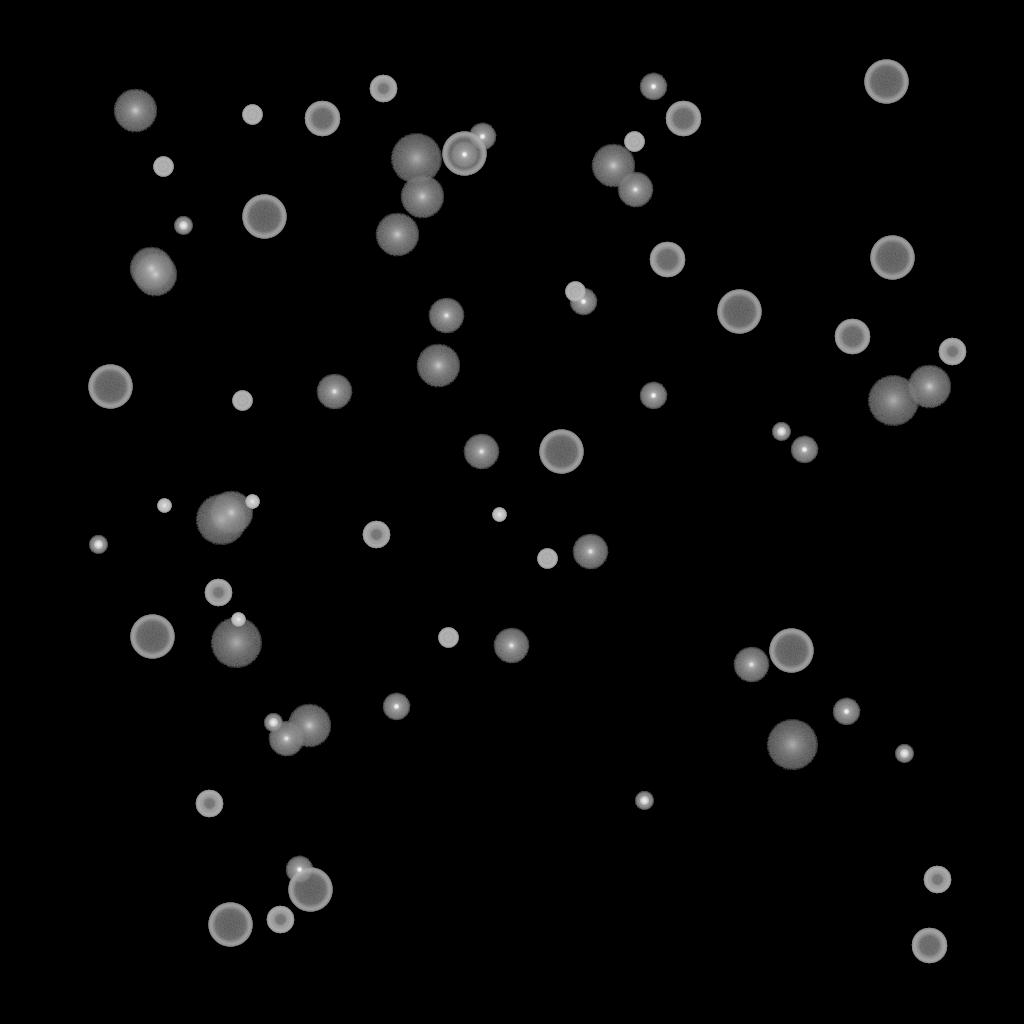depth:-10: (569, 288, 597, 316), (790, 436, 818, 464), (639, 73, 667, 101), (468, 123, 496, 151), (382, 693, 410, 721), (285, 856, 313, 884), (639, 382, 667, 410), (832, 698, 860, 726), (450, 141, 478, 169)
depth:-20: (264, 714, 282, 732), (895, 745, 913, 763), (635, 792, 653, 810), (772, 423, 790, 441), (89, 536, 107, 554), (174, 217, 192, 235)
depth:-30: (231, 613, 245, 627), (157, 499, 171, 513), (492, 508, 506, 522), (245, 495, 259, 509)
depth:-40: (624, 132, 644, 152), (242, 105, 262, 125), (232, 391, 252, 411), (438, 628, 458, 648), (565, 282, 585, 302), (153, 157, 173, 177), (537, 549, 557, 569)
depth:-50: (369, 75, 397, 103), (195, 790, 223, 818), (362, 521, 390, 549), (923, 866, 951, 894), (204, 579, 232, 607), (266, 906, 294, 934), (938, 338, 966, 366)
depth:-60: (834, 319, 870, 355), (665, 101, 701, 137), (911, 928, 947, 964), (304, 101, 340, 137), (649, 242, 685, 278)
depth:-70: (208, 903, 252, 947), (870, 236, 914, 280), (88, 365, 132, 409), (717, 290, 761, 334), (242, 195, 286, 239), (769, 629, 813, 673), (288, 868, 332, 912), (539, 430, 583, 474), (864, 60, 908, 104), (442, 132, 486, 176), (130, 615, 174, 659)
depth:0: (733, 647, 769, 683), (316, 374, 352, 410), (268, 721, 304, 757), (572, 534, 608, 570), (463, 434, 499, 470), (493, 628, 529, 664), (428, 298, 464, 334), (617, 172, 653, 208)
depth:10: (591, 144, 635, 188), (133, 253, 177, 297), (113, 89, 157, 133), (907, 365, 951, 409), (400, 175, 444, 219), (129, 247, 173, 291), (416, 344, 460, 388), (375, 213, 419, 257), (287, 704, 331, 748), (209, 491, 253, 535)
depth:20: (195, 495, 247, 545), (210, 618, 262, 668), (867, 376, 919, 426), (766, 720, 818, 770), (390, 134, 442, 184)
